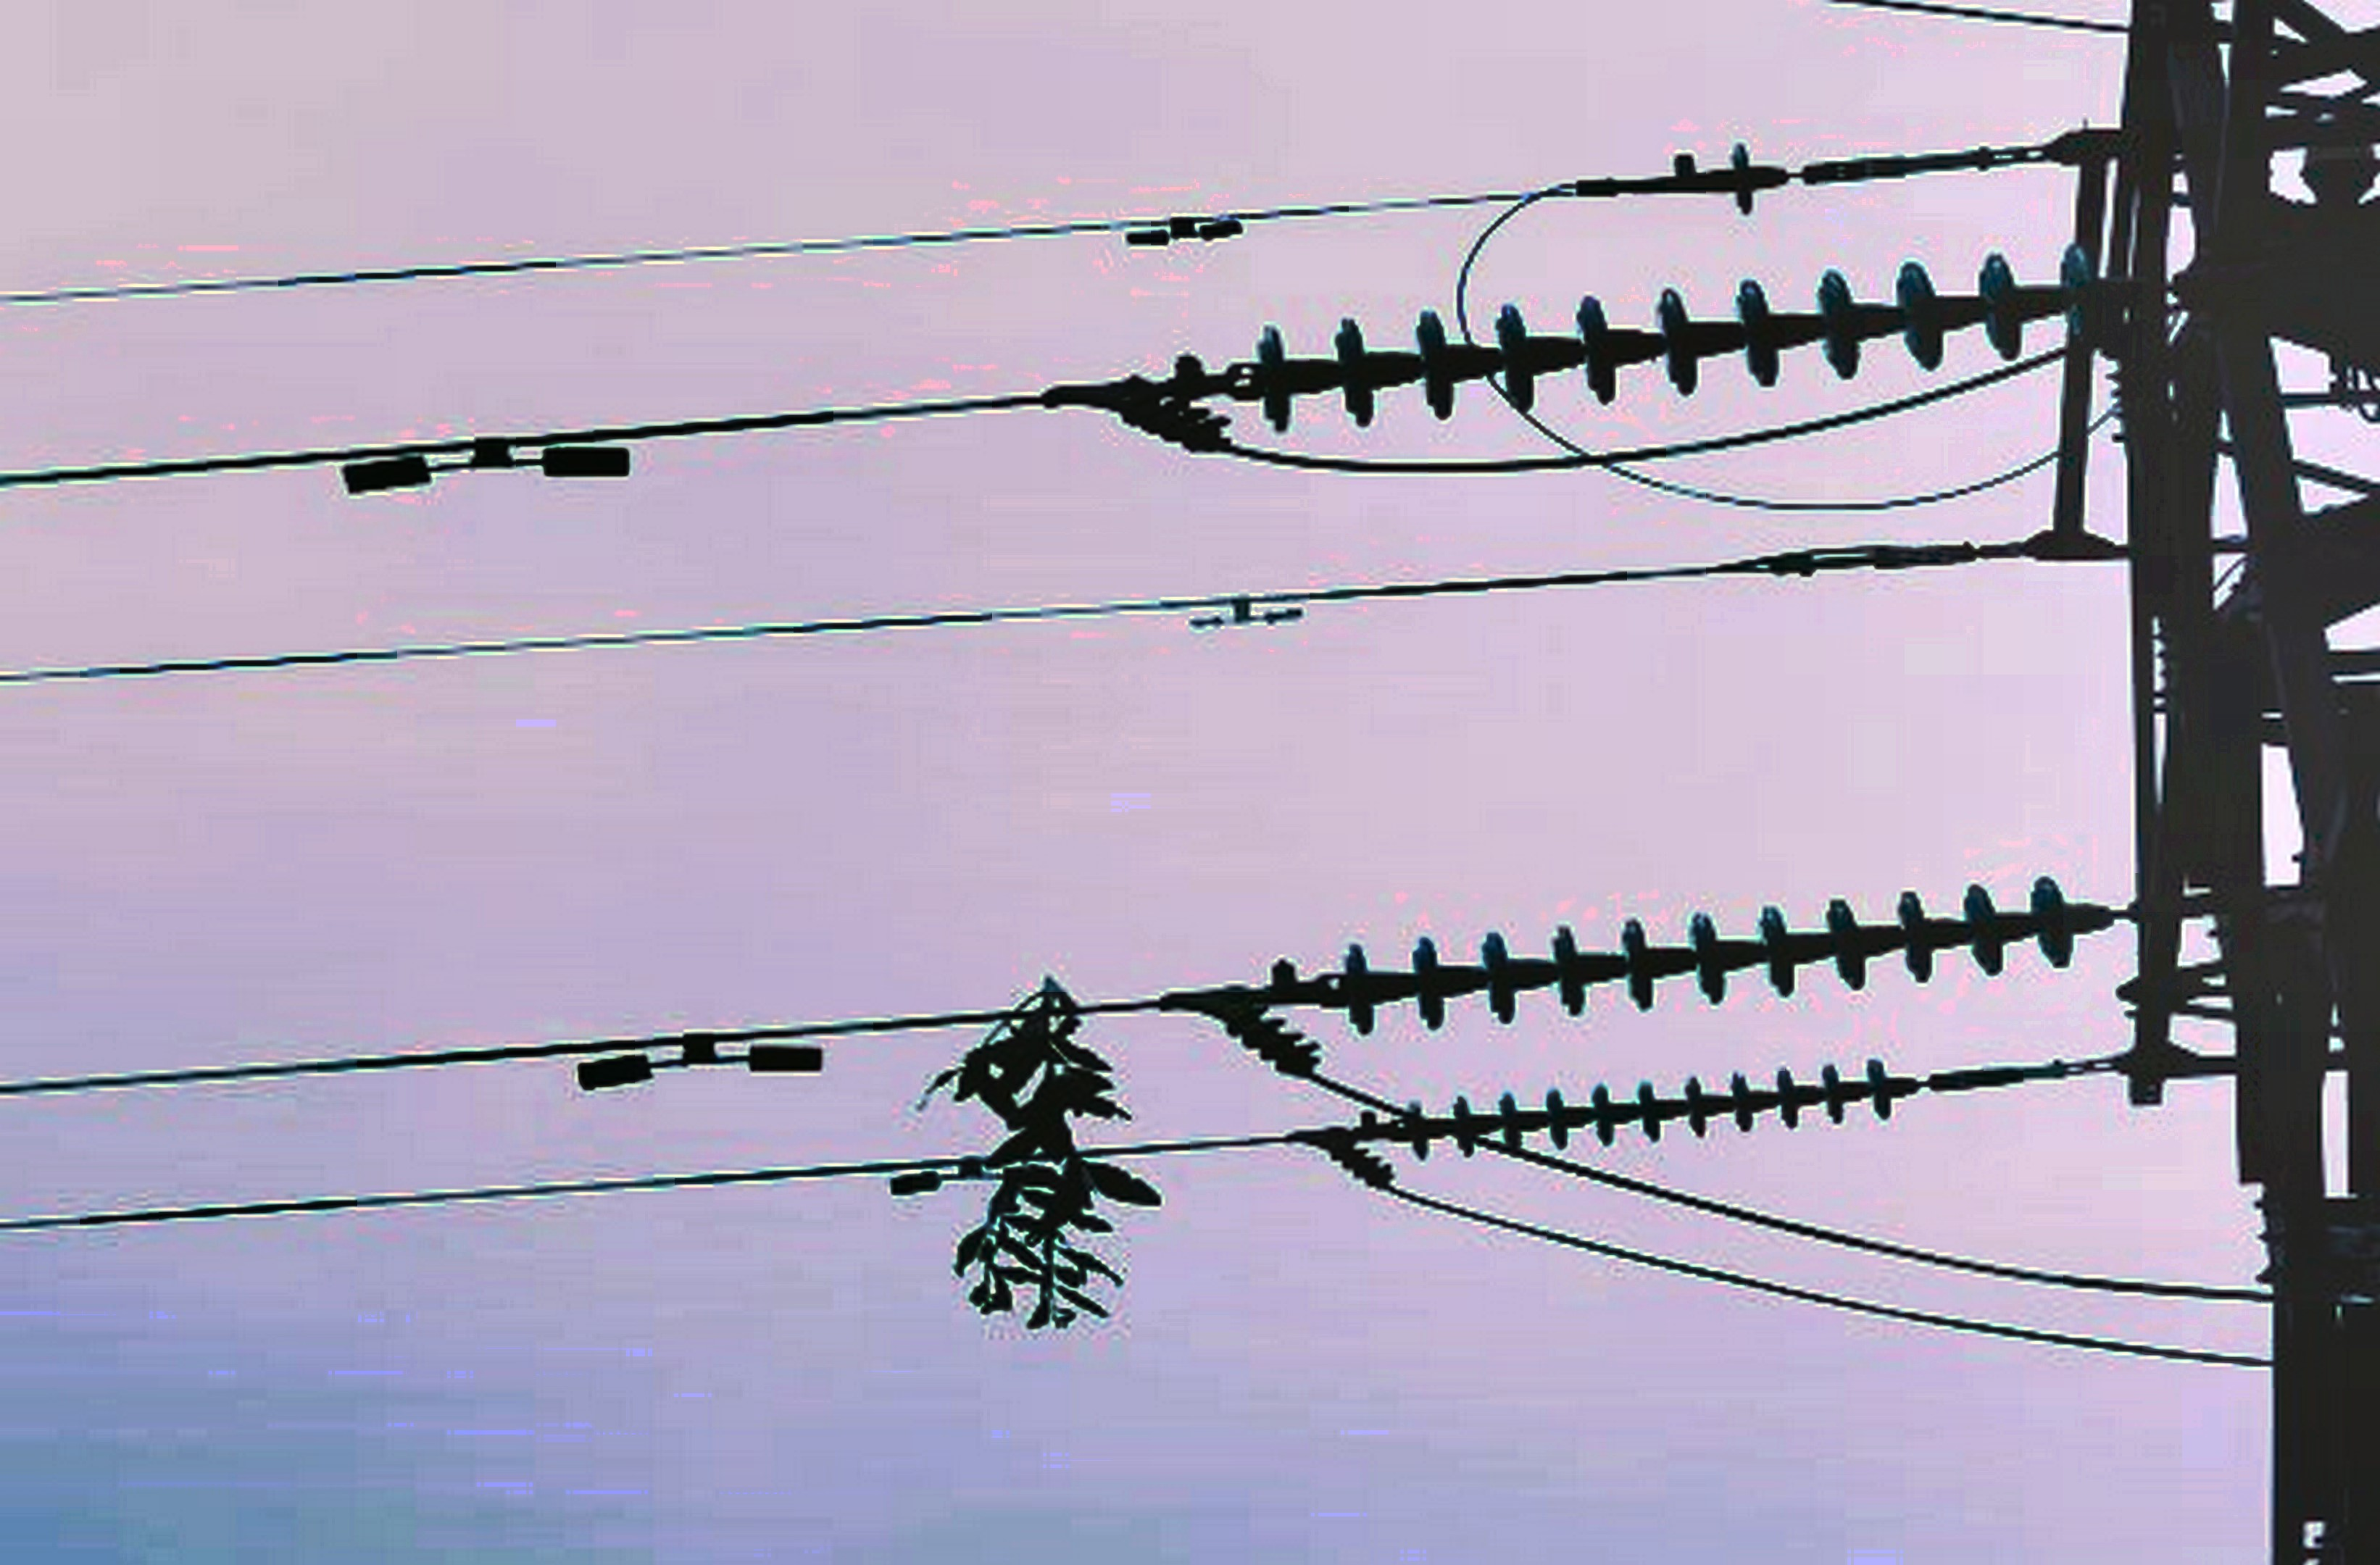wire foreign body: (911, 961, 1187, 1341)
